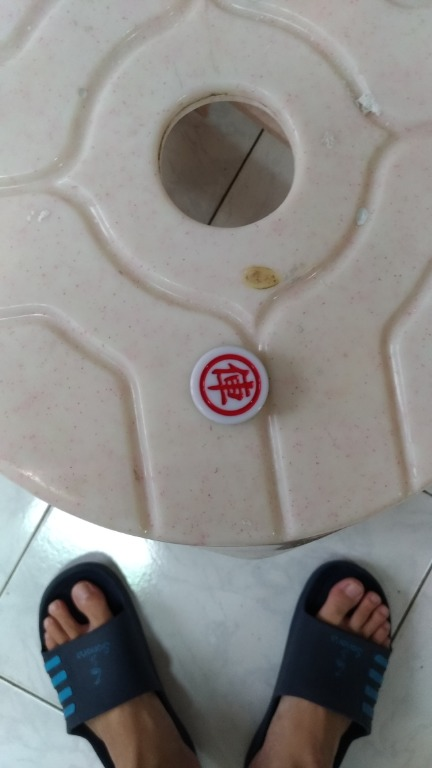r-rook: (174, 341, 287, 427)
